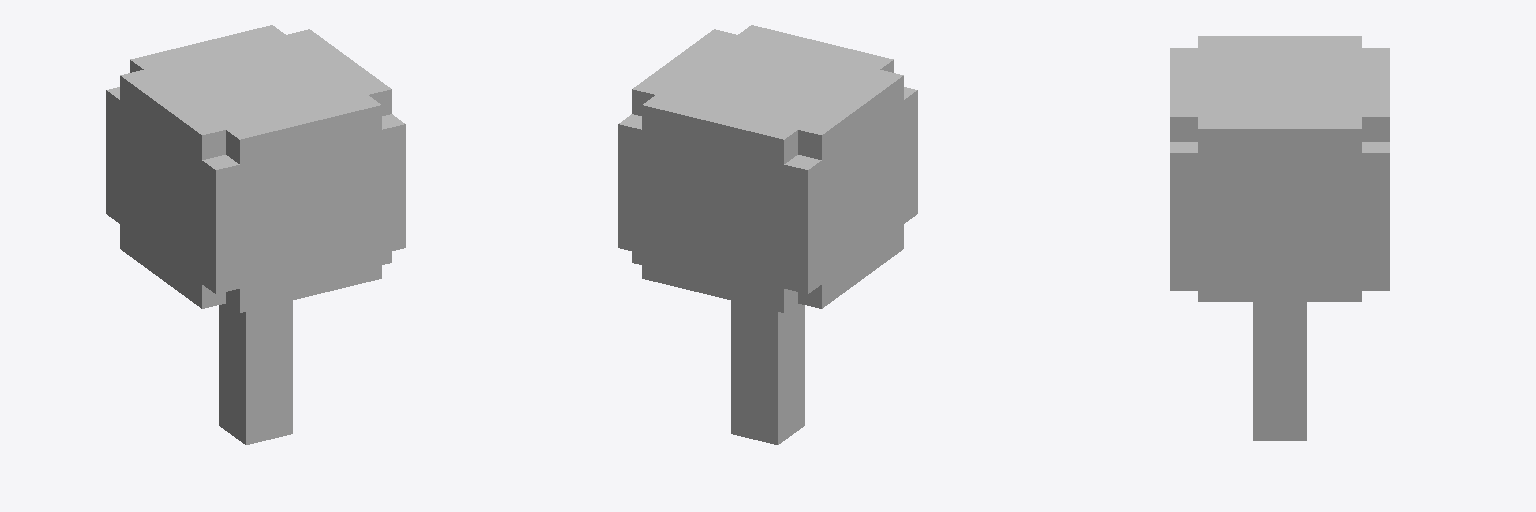
File: Tree.obj
The picture shows the model from 3 angles: view 1: azimuth 30°, elevation 25°; view 2: azimuth 150°, elevation 25°; view 3: azimuth 270°, elevation 25°; orthographic projection.
Bounding box in the file's own units: 8 × 14 × 8.